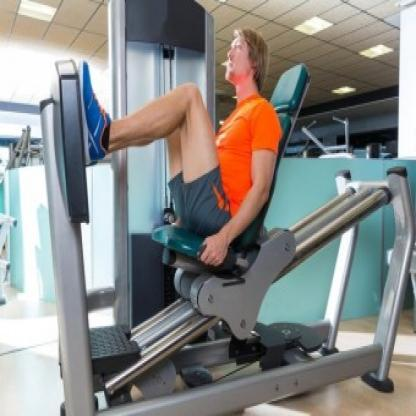leg press: (28, 2, 416, 416)
